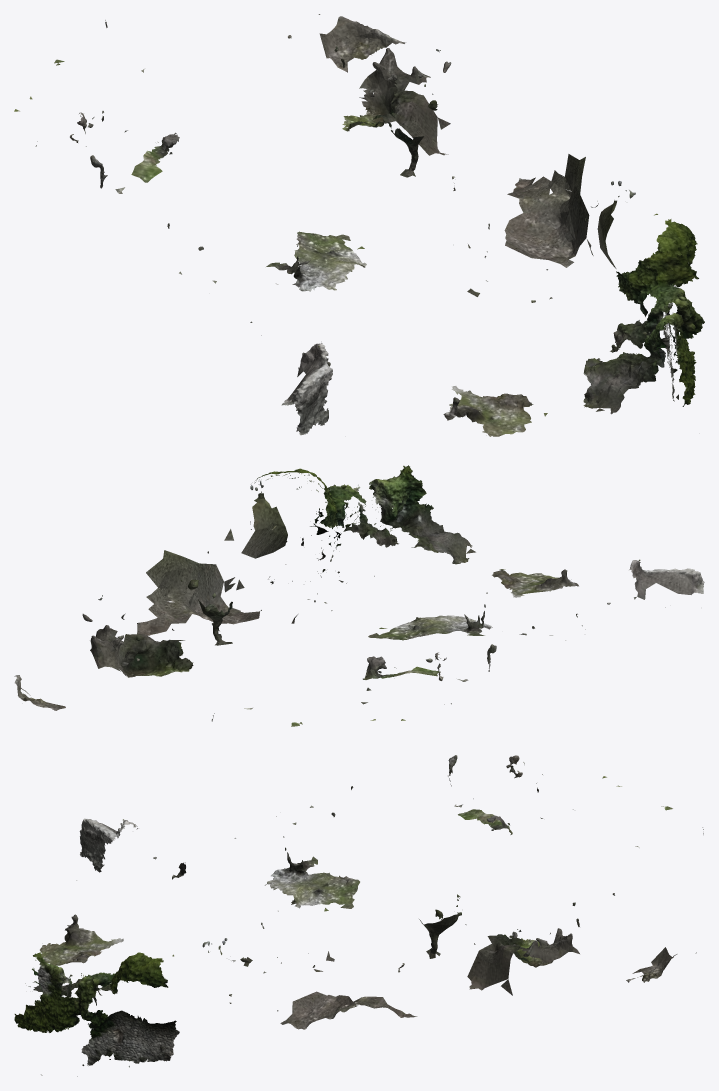
3 views of the same model, one above another, from view 1: azimuth 30°, elevation 25°; view 2: azimuth 150°, elevation 25°; view 3: azimuth 270°, elevation 25° (orthographic). The views are drawn at different scales.
Size of the model in its own units: 29.67 by 12.78 by 45.73.
Materials: 1 (1 with a texture image).
